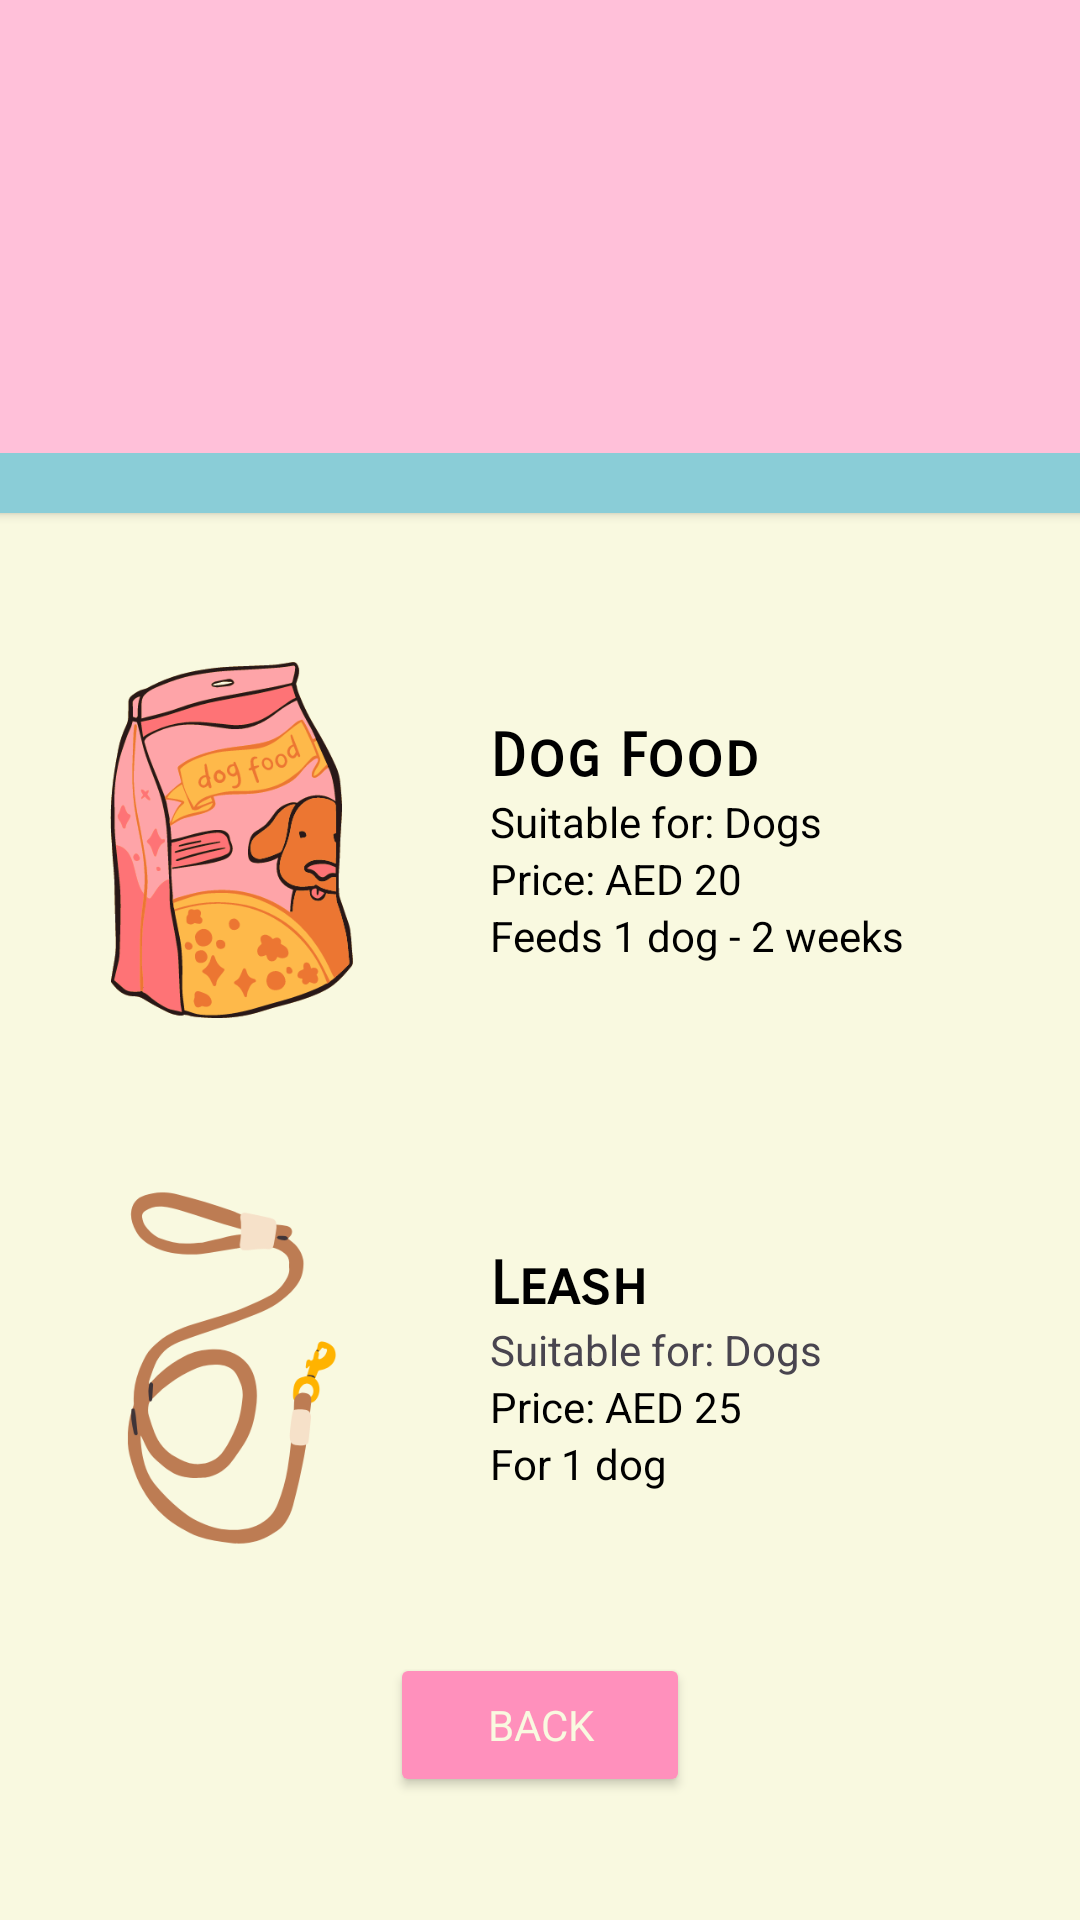

Where to tap for icons on this 1080w x 1920h app screen, as point (x, y):
dogaccessory: point (232, 1368)
